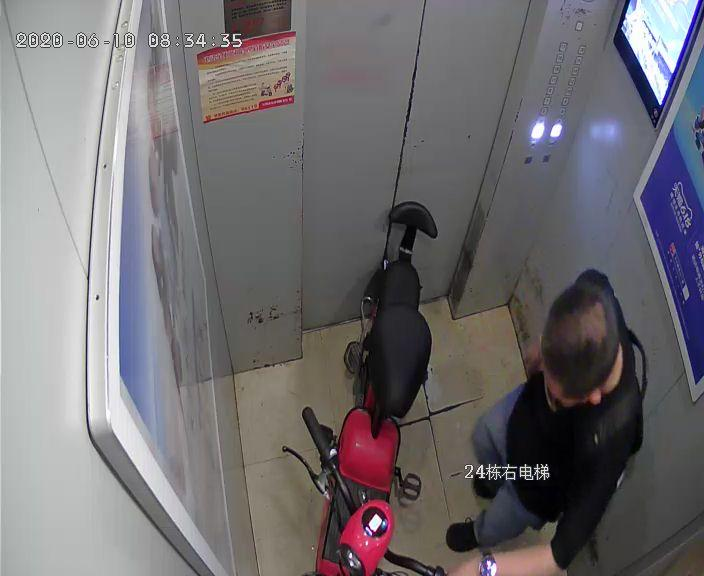Electric-bicycle: (311, 205, 431, 573)
